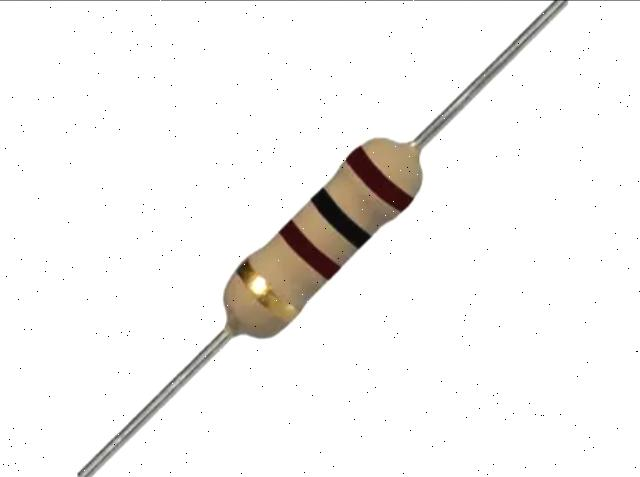black: (310, 186, 372, 248)
brown: (345, 144, 415, 213), (277, 219, 342, 280)
gold: (235, 258, 301, 326)
resistor: (195, 103, 469, 372)
